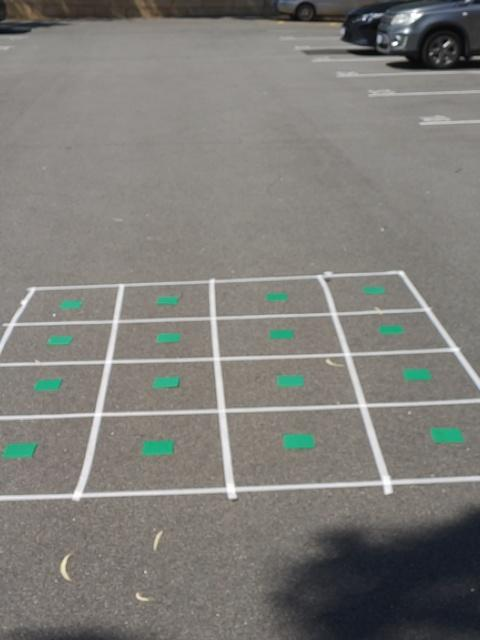weed: (0, 440, 38, 458), (428, 427, 462, 446), (142, 439, 175, 457), (283, 432, 315, 449), (33, 376, 62, 392), (402, 366, 430, 382), (150, 375, 181, 389), (276, 373, 304, 388), (154, 332, 182, 344), (269, 329, 295, 341), (45, 334, 73, 345), (155, 294, 180, 306), (377, 324, 404, 335), (58, 298, 82, 310), (265, 291, 289, 302), (361, 285, 385, 295)
